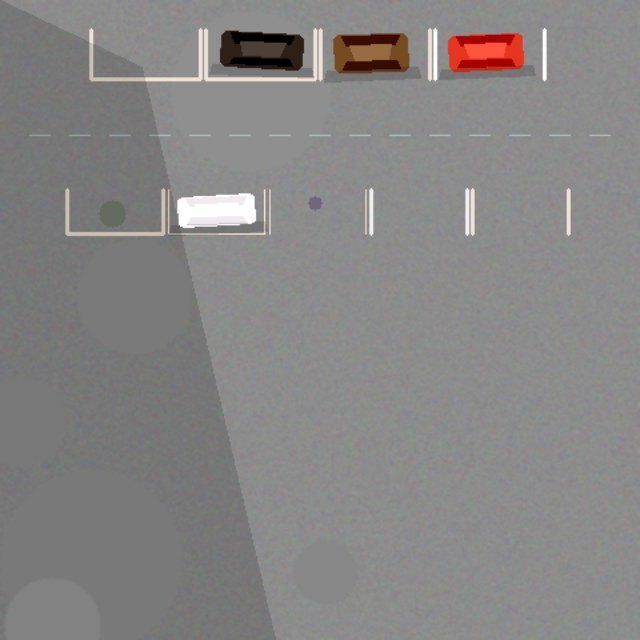space-empty: (91, 29, 200, 79), (67, 189, 163, 233), (269, 189, 365, 233), (371, 189, 467, 233), (472, 189, 568, 233)
space-occupied: (205, 29, 315, 79), (320, 29, 429, 79), (435, 29, 544, 79), (168, 189, 264, 233)
